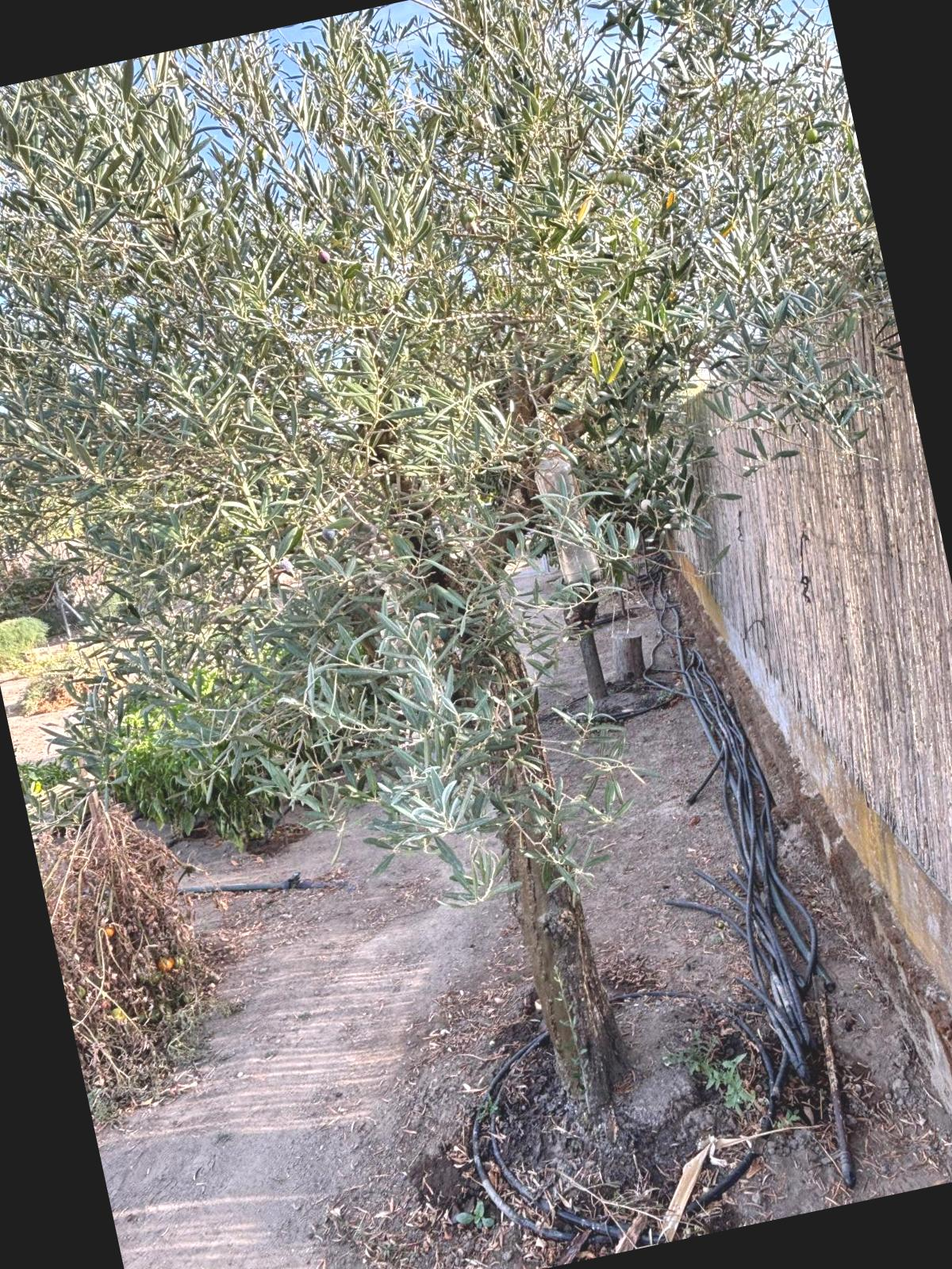olivo: (0, 0, 922, 1242)
